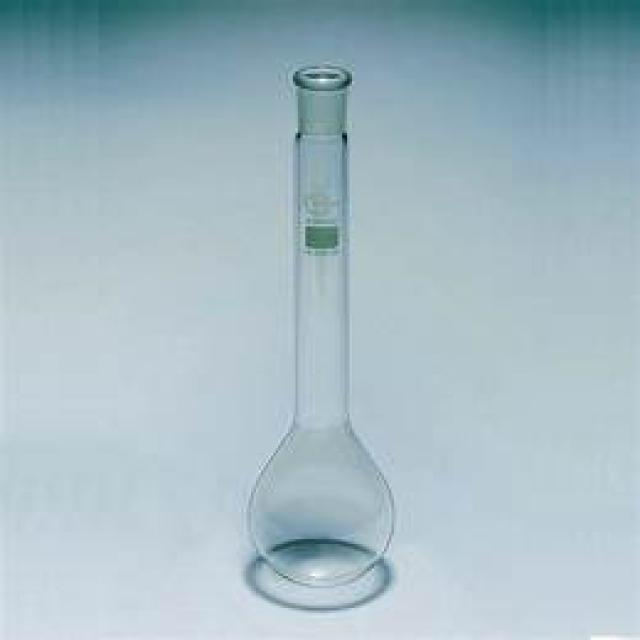Volumetric flask: (221, 53, 408, 585)
